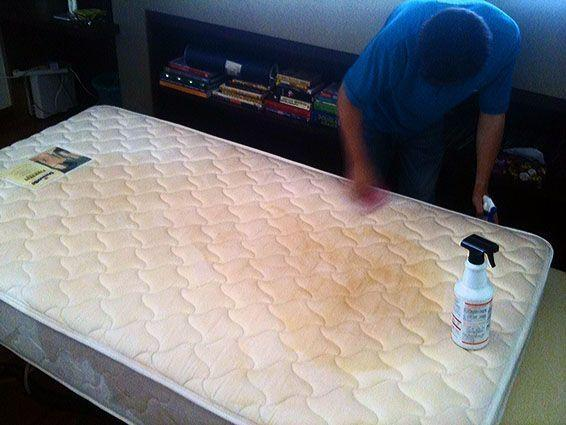Bed-Mattress: (0, 99, 553, 425)
